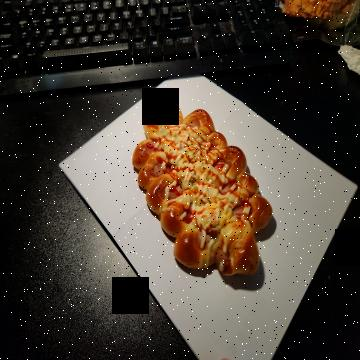pizza_bread: (135, 102, 271, 281)
